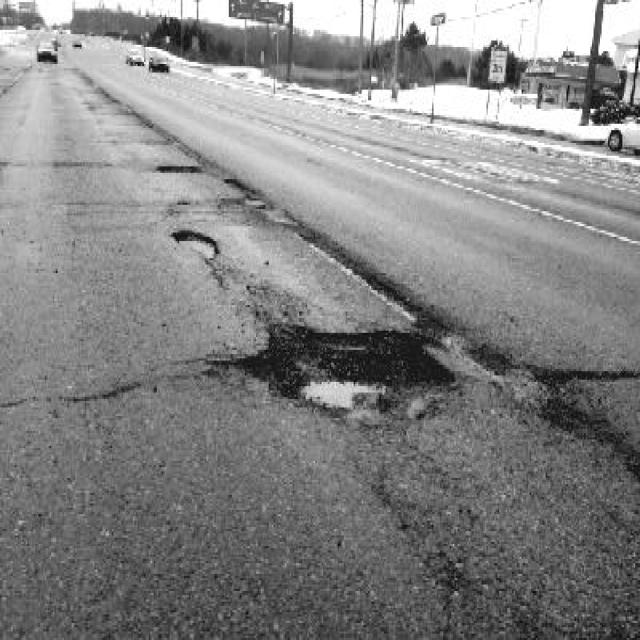pothole: (240, 320, 459, 412), (167, 224, 220, 262), (224, 172, 266, 210), (154, 162, 203, 173)
